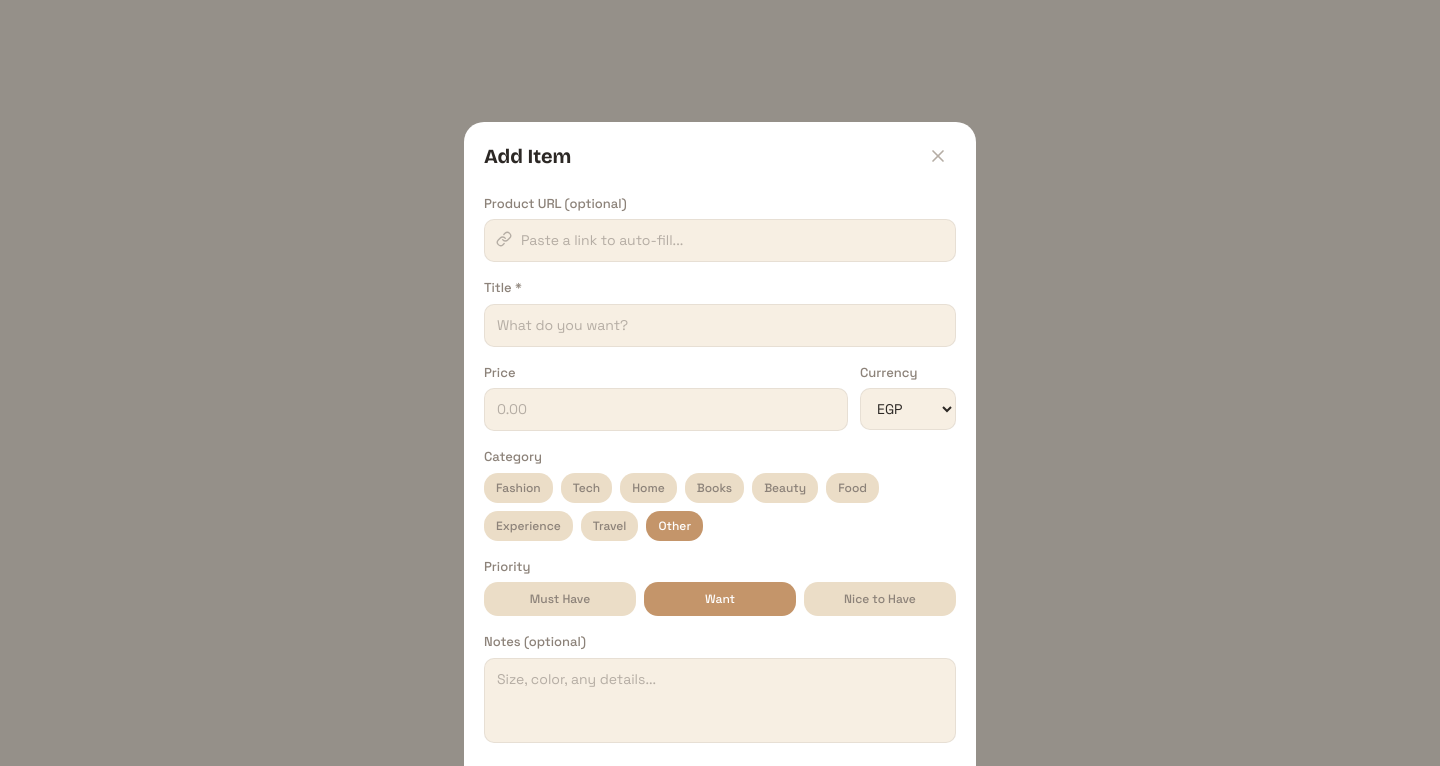
AddWishlistItemForm › interaction: URL auto-fill › auto-fills title from metadata when title is empty
Type "https://example.com/product" into the field with test id "wishlist-url-input" at (720,240), box [484,219,956,262]
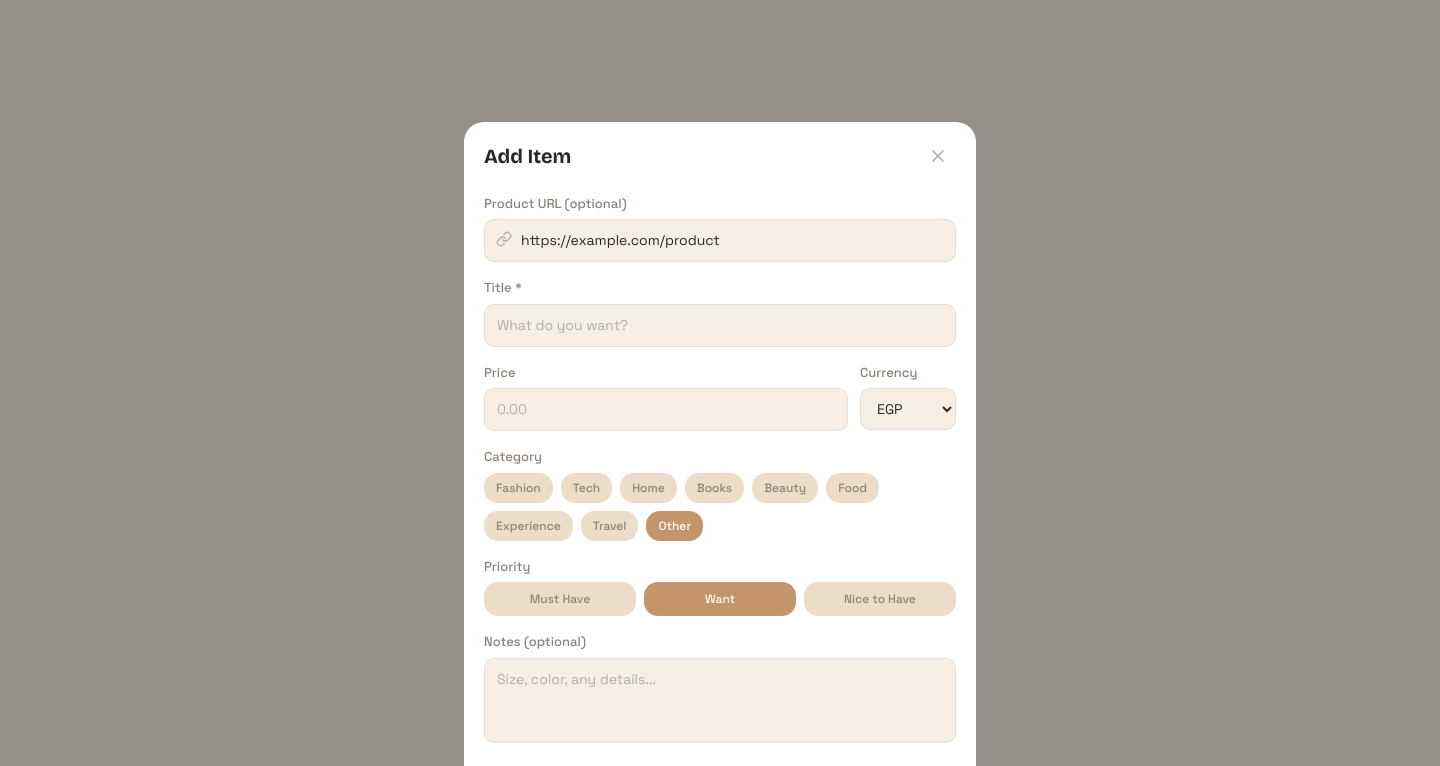
Leave the field with test id "wishlist-url-input", box [484,219,956,262]
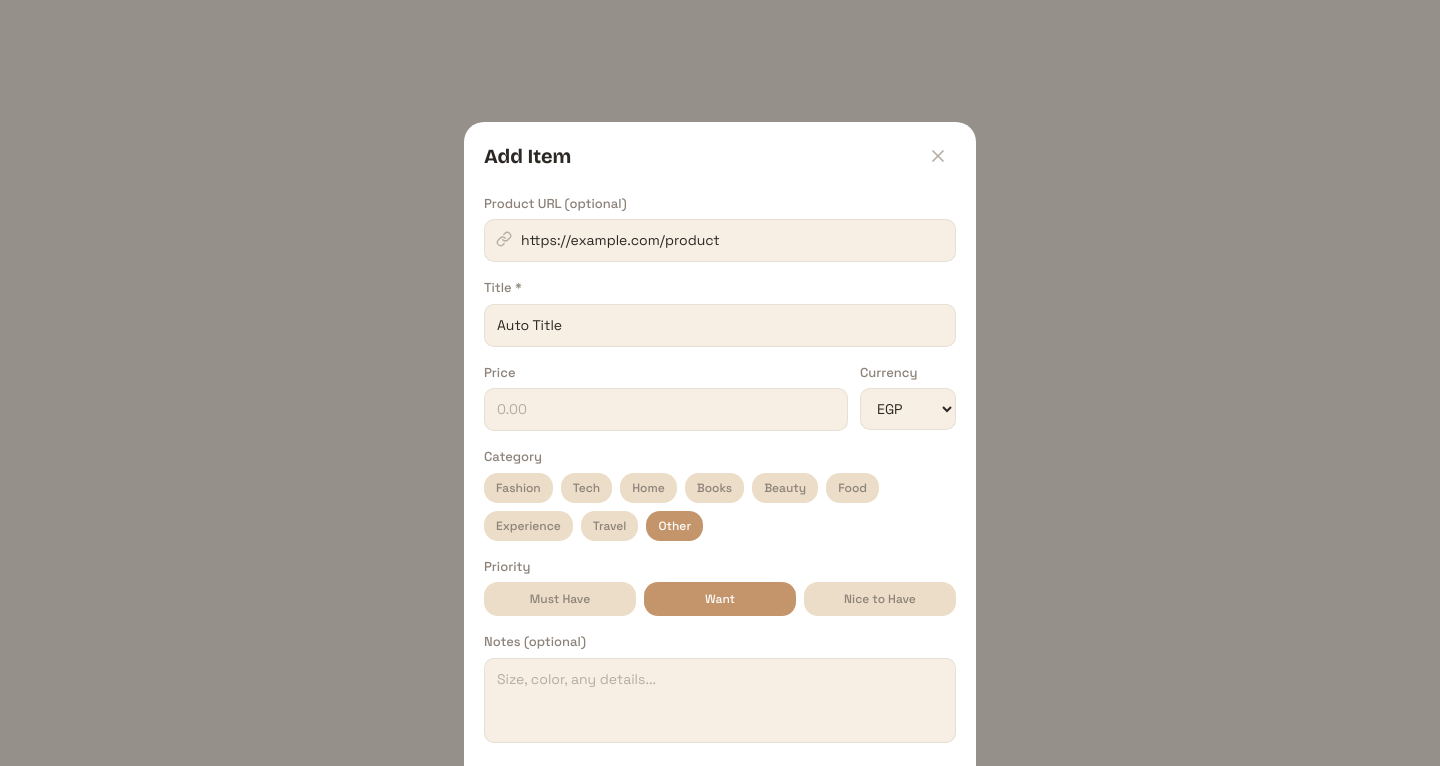
Expected: the field with test id "wishlist-title-input" holds "Auto Title", [484,304,956,346]
